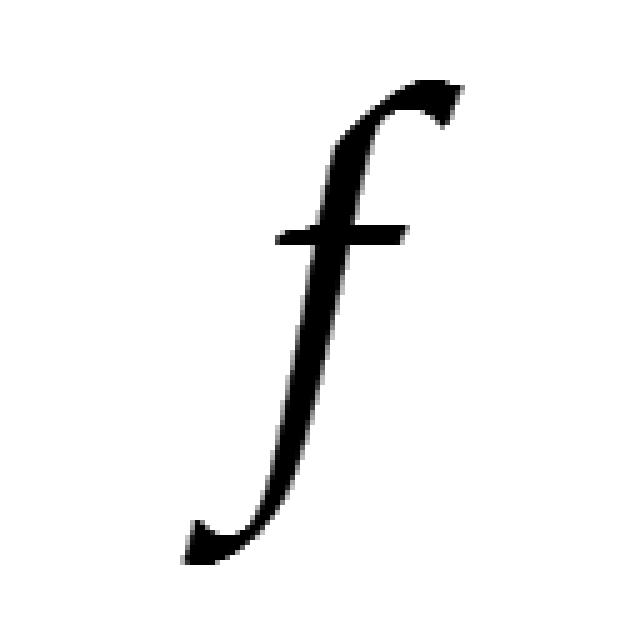F: (190, 80, 465, 570)
